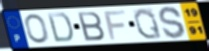B: (76, 11, 107, 43)
D: (45, 12, 75, 44)
F: (103, 9, 128, 41)
O: (23, 13, 50, 45)
Q: (133, 7, 164, 41)
S: (157, 5, 187, 40)
